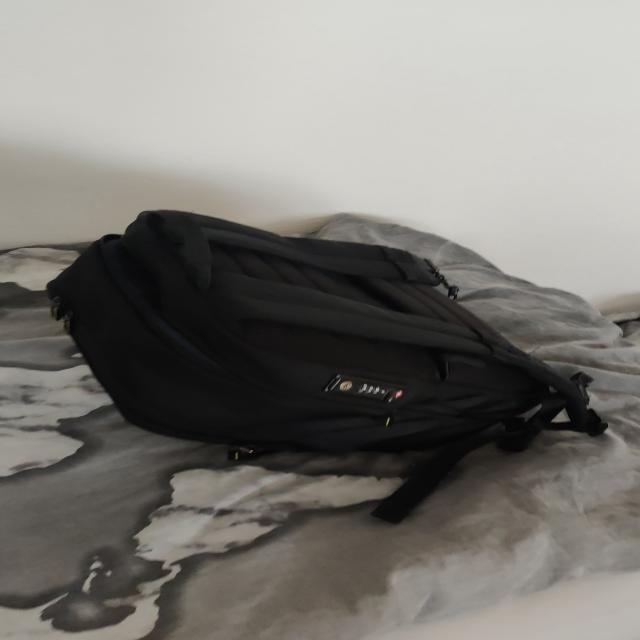backpack: (29, 199, 601, 466)
